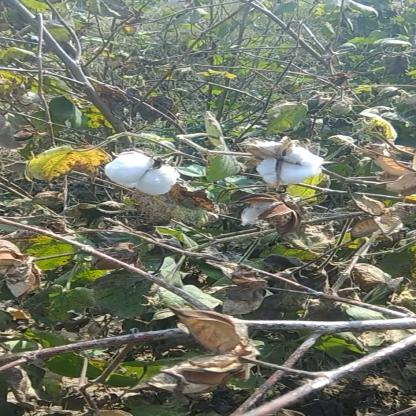cotton_ready: (243, 127, 327, 186), (112, 144, 188, 198)
